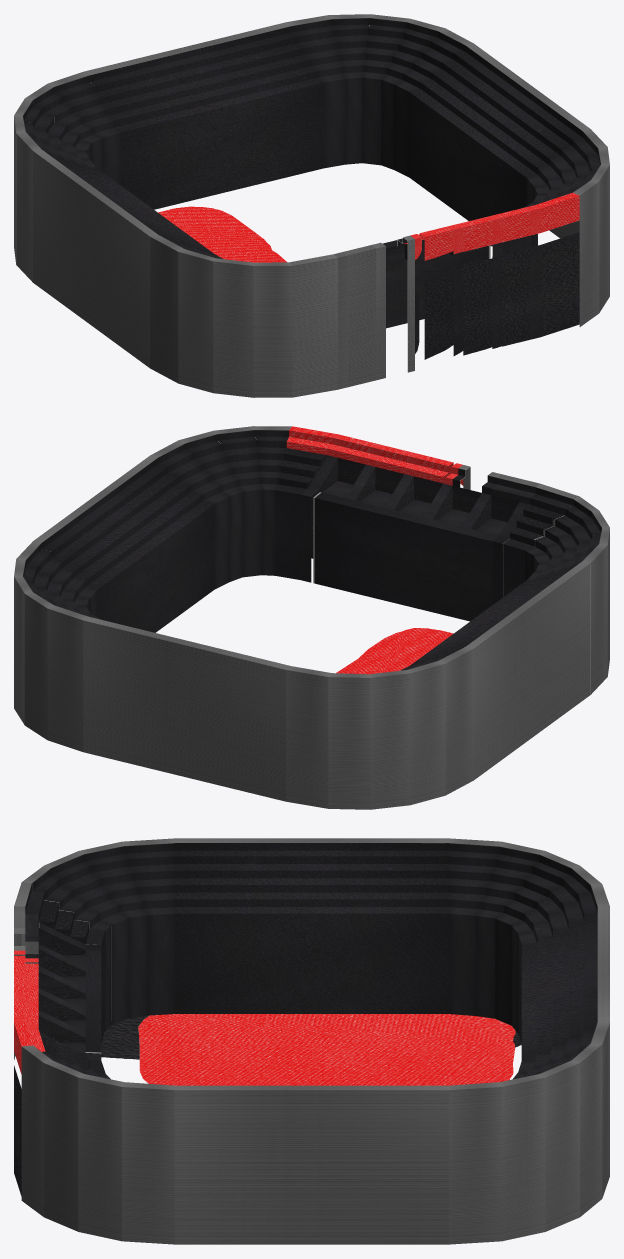
The model's file is 수정본)다이스박스.fbx.
The picture shows the model from 3 angles, top to bottom: view 1: azimuth 30°, elevation 25°; view 2: azimuth 150°, elevation 25°; view 3: azimuth 270°, elevation 25°; orthographic projection. The views are drawn at different scales.
Visible parts, largest first — view 1: 큐브; view 2: 큐브; view 3: 큐브.
Boxes of the visible parts, box(x1,y1,x2,y2) form: 큐브: box(14, 14, 609, 397); 큐브: box(14, 426, 609, 809); 큐브: box(14, 838, 609, 1244).
Size of the model in its own units: 700 by 200 by 700.
